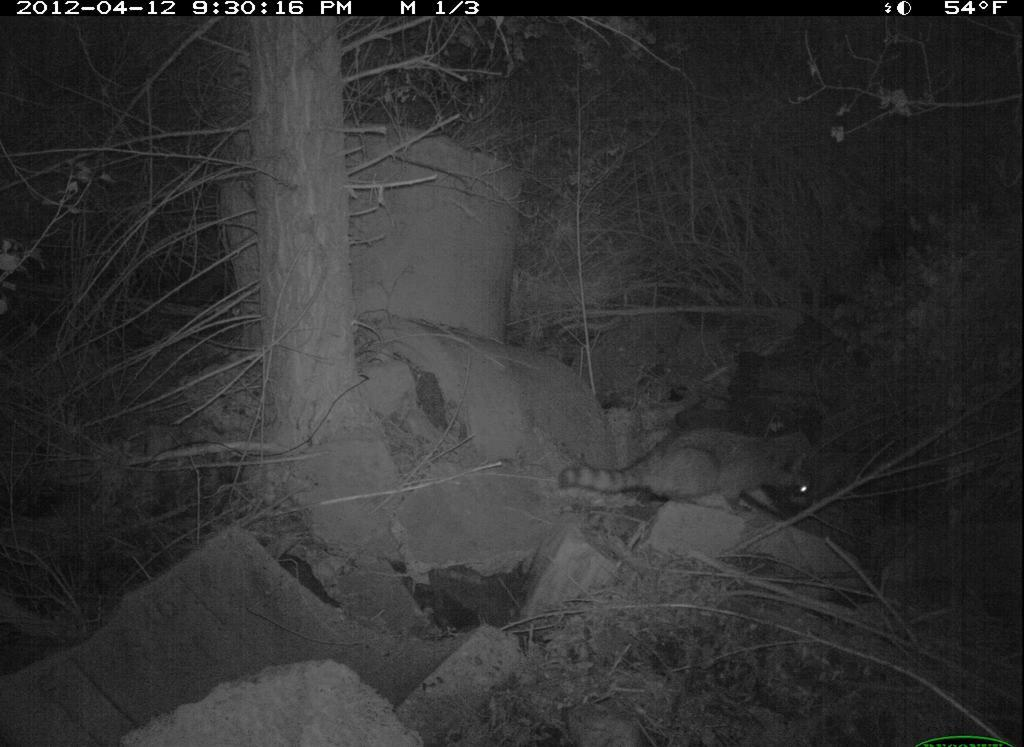raccoon: (560, 417, 833, 524)
